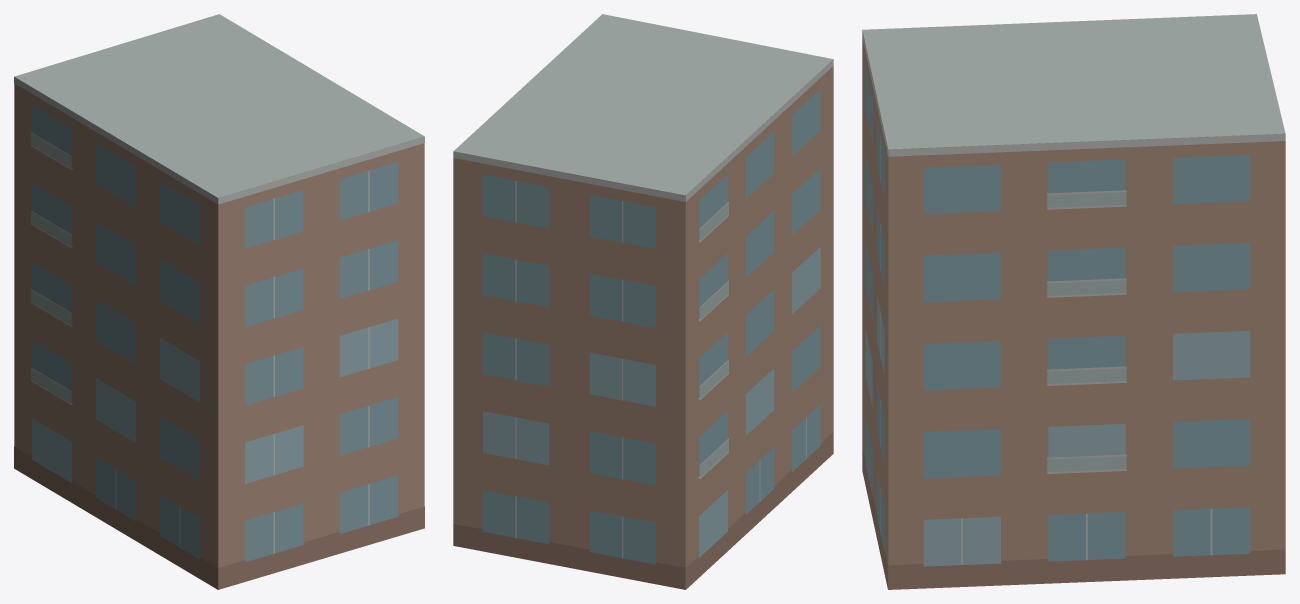
The model's file is survey-upis-32971677.glb.
The picture shows the model from 3 angles, left to right: view 1: azimuth 30°, elevation 25°; view 2: azimuth 150°, elevation 25°; view 3: azimuth 270°, elevation 25°; orthographic projection. The views are drawn at different scales.
Visible parts, largest first — view 1: survey-upis-32971677.tmp; view 2: survey-upis-32971677.tmp; view 3: survey-upis-32971677.tmp.
Boxes of the visible parts, x1=… form: survey-upis-32971677.tmp: x1=14, y1=14, x2=424, y2=589; survey-upis-32971677.tmp: x1=453, y1=14, x2=833, y2=589; survey-upis-32971677.tmp: x1=862, y1=14, x2=1285, y2=589.
Size of the model in its own units: 9.6 by 14.55 by 12.68.
